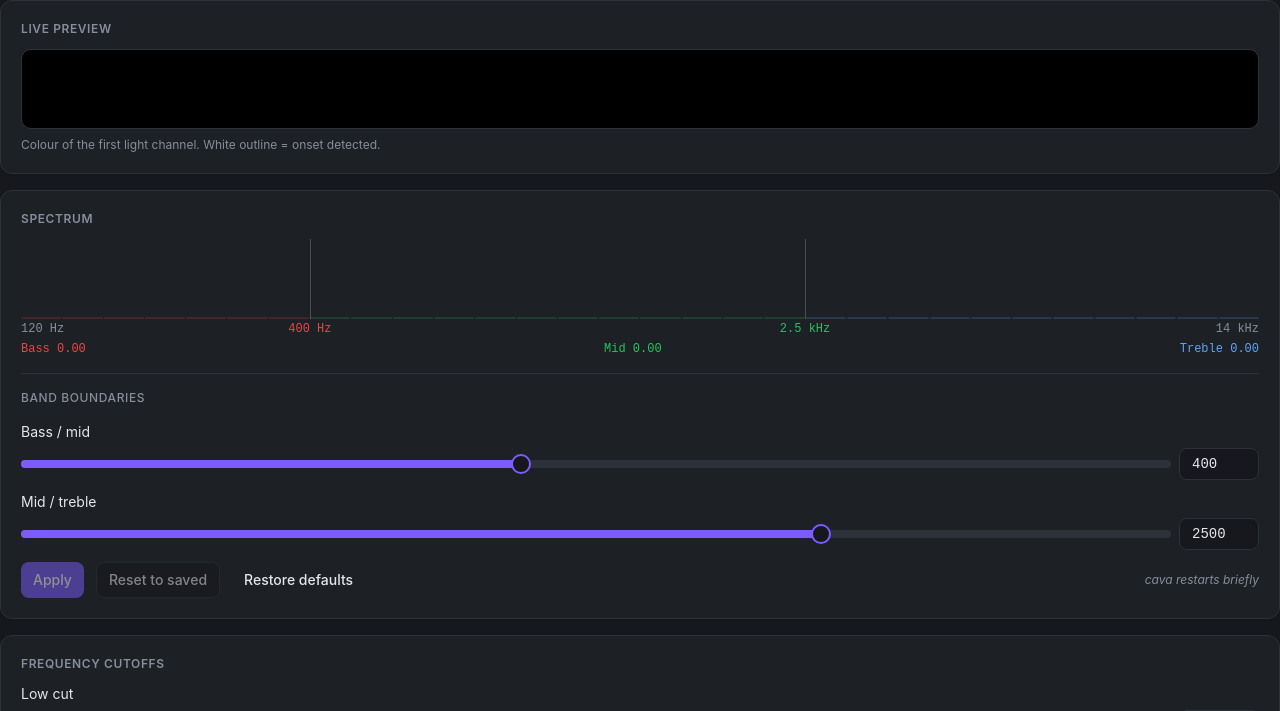
Test: NowPlaying — Reset to saved & Restore factory defaults › Bands — Reset to saved › Mid/treble: Reset goes to APPLIED value, not factory default
Replace the text in the number field with test id "mid-hz" with "5000". click: (1219, 534)
box: [1179, 518, 1259, 550]
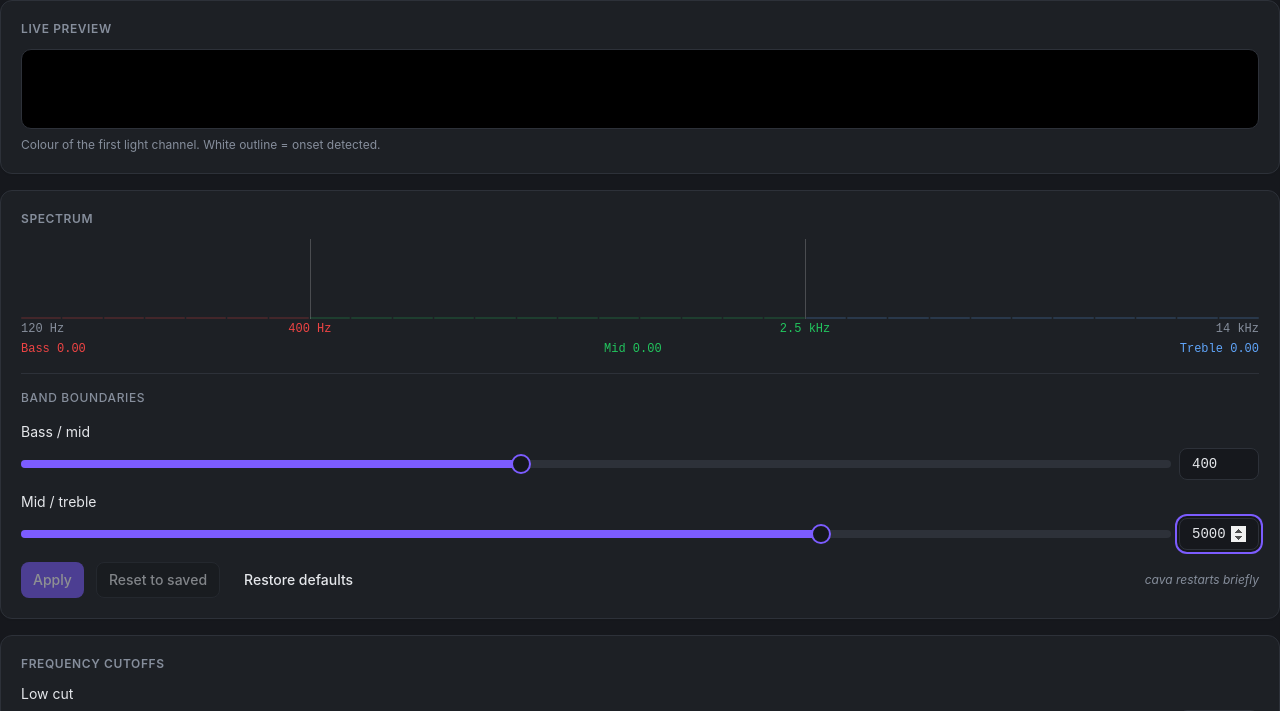
Press Enter
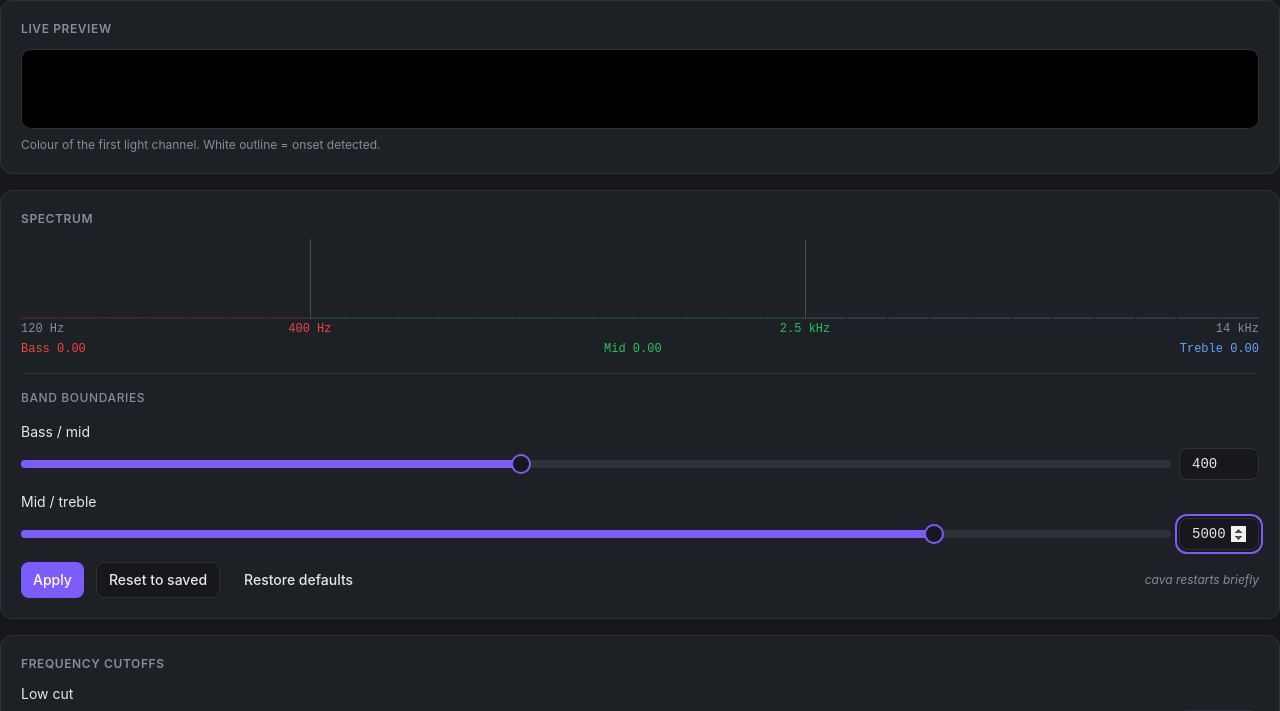
Click the button with test id "reset-bands". click: (158, 580)
box: [96, 562, 220, 598]
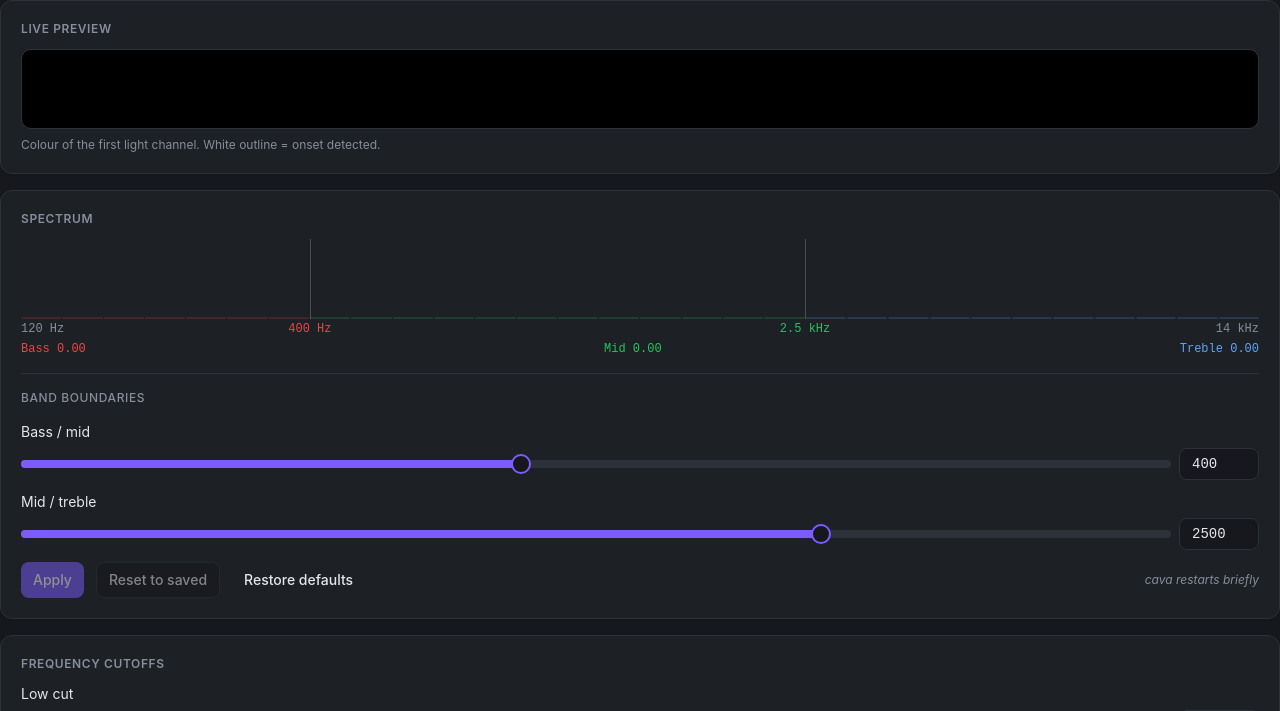
expect the number field with test id "mid-hz" holds "2500": met, box [1179, 518, 1259, 550]
expect the number field with test id "mid-hz" does not hold "2000": met, box [1179, 518, 1259, 550]
